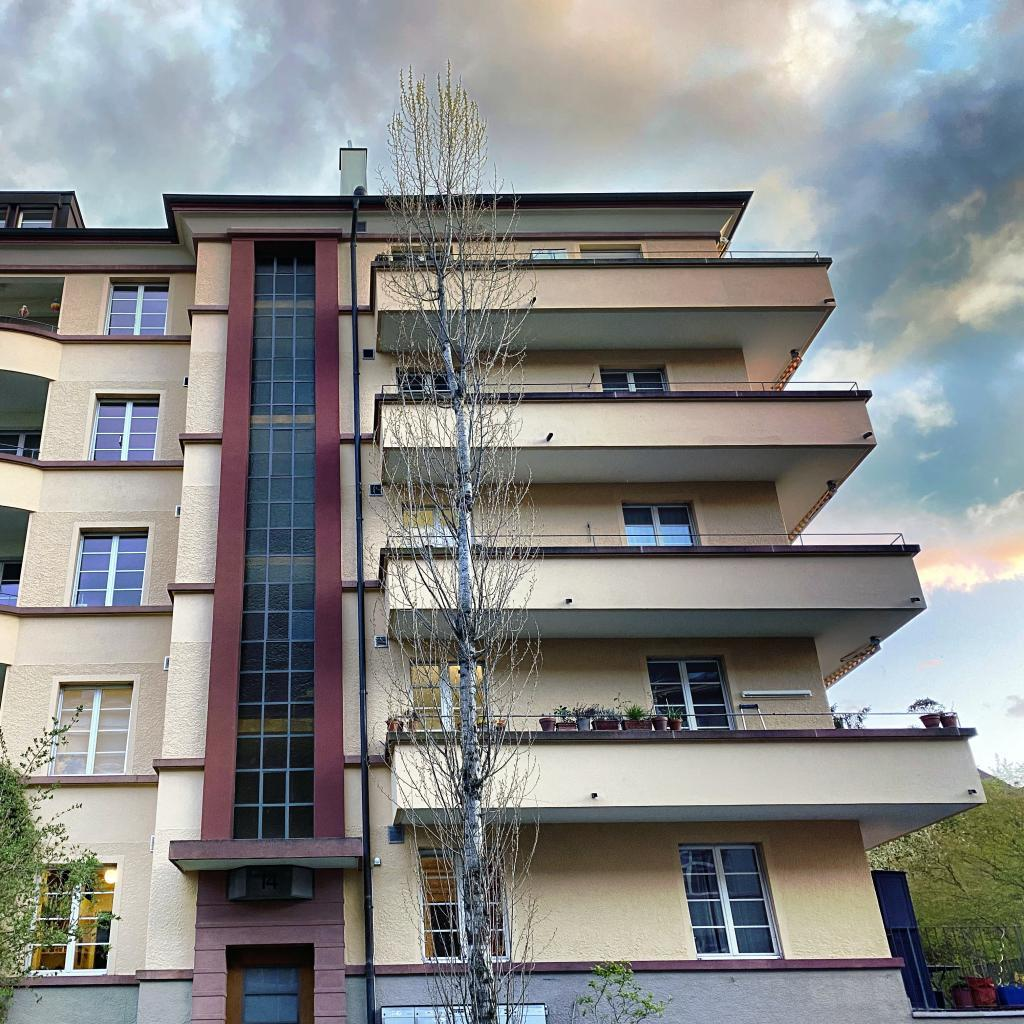balcony-fence: (391, 710, 961, 730), (385, 530, 906, 548), (381, 380, 861, 393), (375, 249, 821, 260), (0, 315, 59, 334), (0, 443, 40, 459), (0, 591, 18, 608)
facade: (1, 138, 987, 1024)
non-building-infrastructure: (871, 871, 1024, 1024)
traffic-infrastructure: (338, 139, 377, 1024)
vegetation: (355, 55, 685, 1024), (865, 752, 1024, 1010), (0, 701, 123, 1024), (906, 695, 962, 729), (828, 701, 873, 729)
window: (233, 238, 318, 838), (674, 840, 785, 959), (417, 845, 512, 963), (24, 860, 120, 974), (46, 679, 136, 776), (645, 653, 740, 731), (68, 526, 151, 606), (408, 658, 493, 731), (86, 391, 162, 461), (101, 276, 170, 335), (621, 498, 703, 546), (400, 500, 476, 547), (598, 362, 672, 392), (395, 365, 468, 393), (0, 428, 42, 459), (0, 556, 24, 606), (578, 242, 646, 258), (390, 245, 455, 260), (16, 207, 54, 228), (0, 207, 8, 228)
